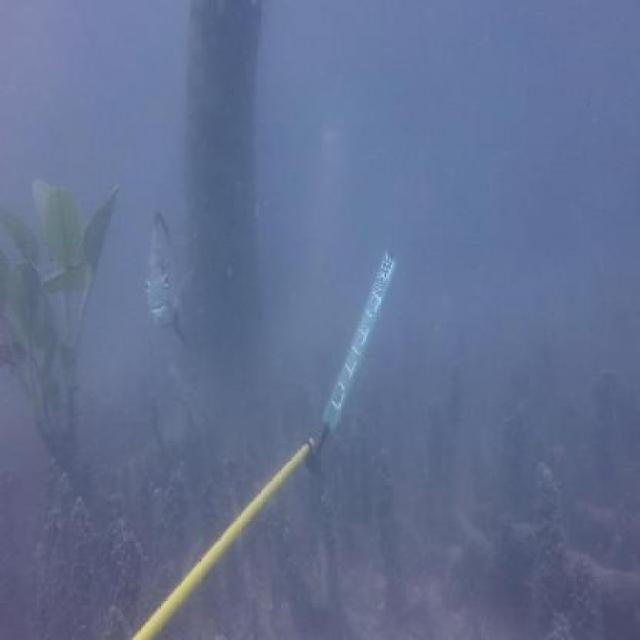acanthopagrus_palmaris: (138, 195, 196, 348)
